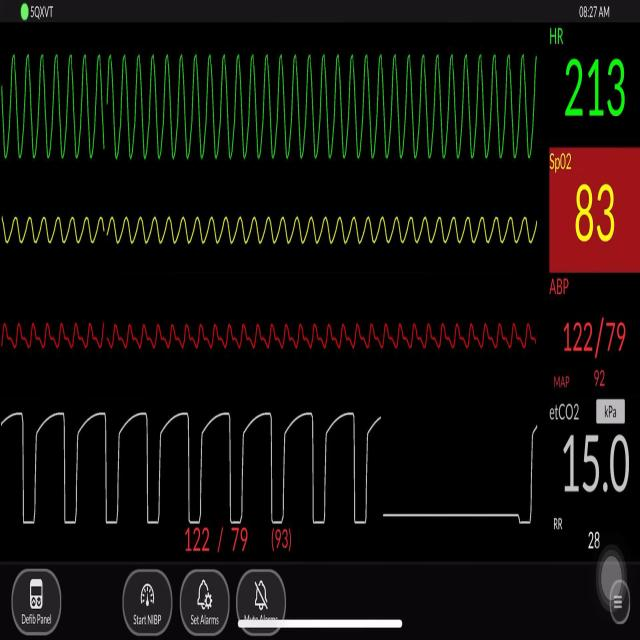danger: (12, 36, 545, 177)
